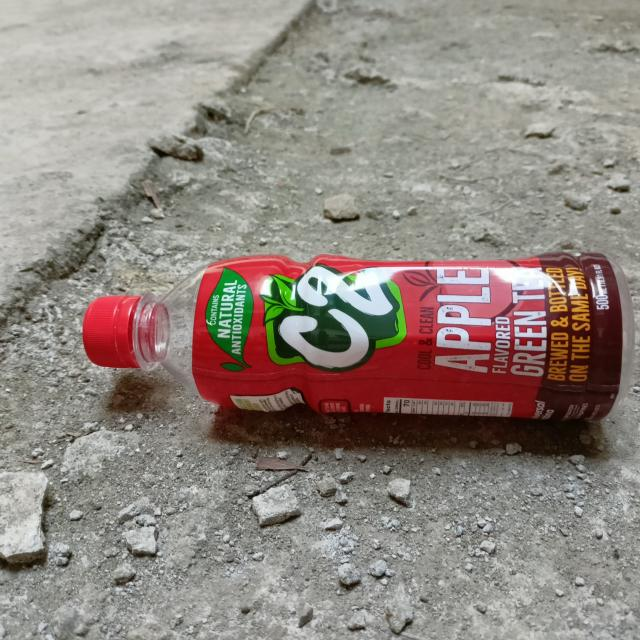Bottle: (83, 252, 634, 421)
